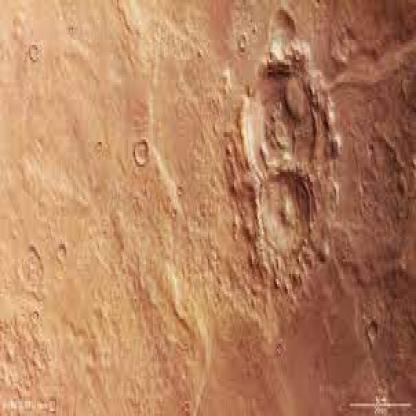craters: (219, 40, 331, 182), (244, 155, 325, 302), (256, 169, 317, 272), (251, 102, 303, 165), (261, 0, 304, 68), (121, 134, 164, 182), (18, 239, 48, 294), (280, 74, 311, 120), (44, 336, 66, 386), (0, 329, 21, 376), (365, 314, 384, 356), (21, 37, 41, 65), (236, 25, 252, 55), (52, 239, 66, 272), (95, 142, 112, 169), (27, 309, 47, 324)
